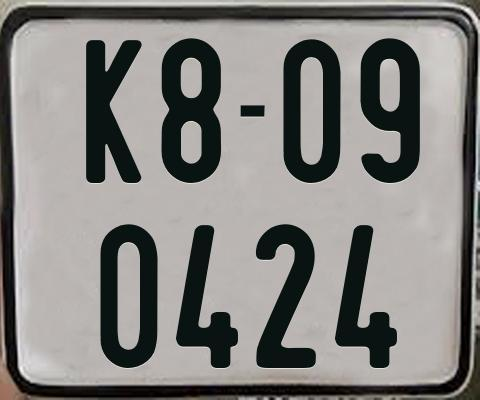0: (99, 222, 160, 371), (283, 36, 343, 182)
2: (256, 224, 321, 372)
4: (176, 225, 243, 374), (332, 225, 397, 369)
8: (158, 35, 223, 181)
9: (357, 37, 423, 186)
K: (85, 39, 147, 182)
